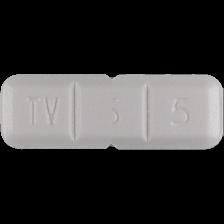0615-7635: (0, 0, 224, 224)
